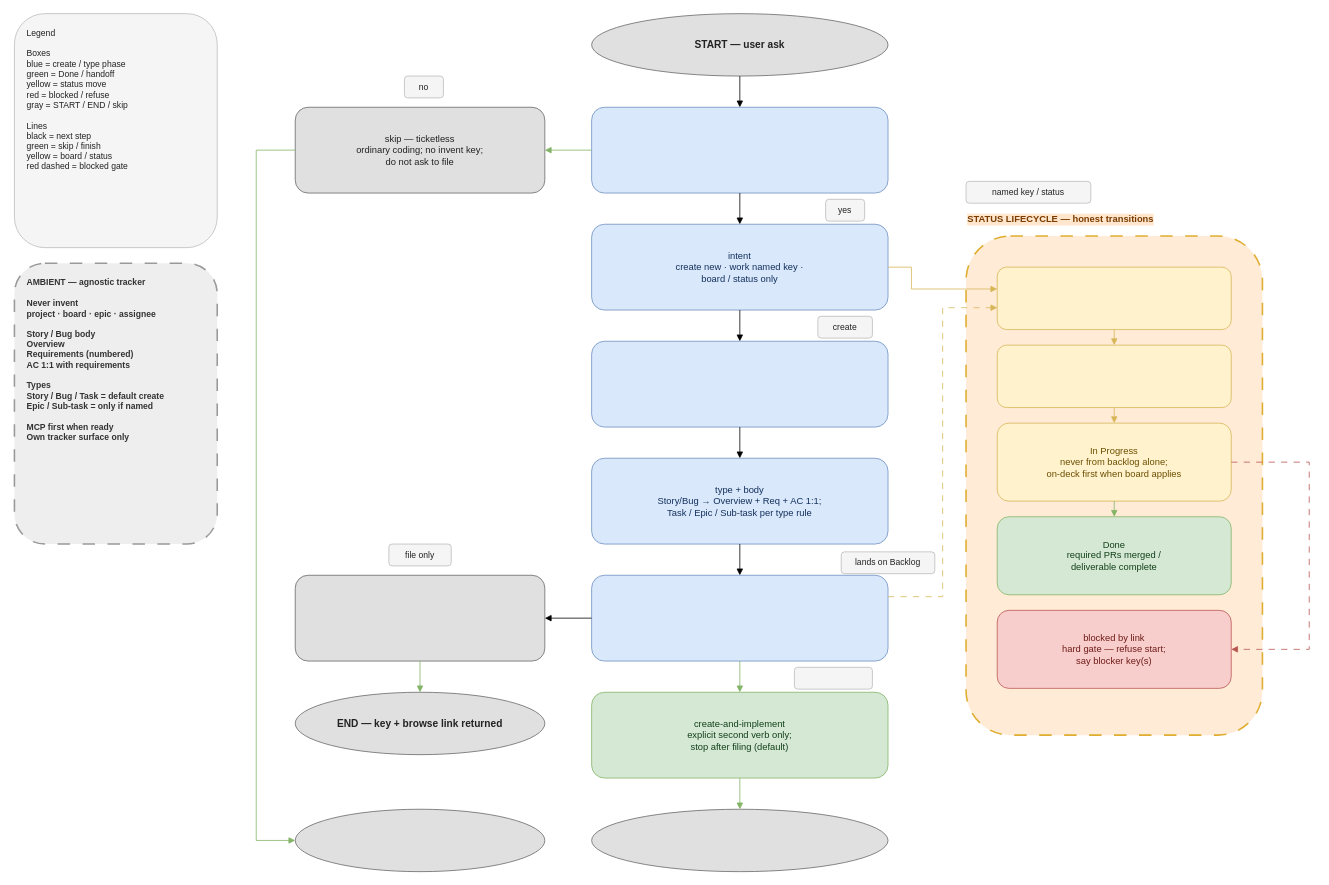
This 1329x885 diagram has some shape labels left out. Here are the shapes that lost their labels. From the top down, the centre of each, then its label:
(739,149): gate · tracker work? explicit create / manage / transition or named issue key
(1113,298): Backlog created; no start directive
(739,383): resolve IDs project / board / assignee / epic from config or named context only
(1113,376): On deck board To Do (board id known)
(419,617): create-only STOP default: file and stop; no code · no worktree · no board
(739,617): create via MCP leave on Backlog unless asked to board or start
(833,678): + implement
(419,840): END — stay ticketless
(739,840): END — issue filed
